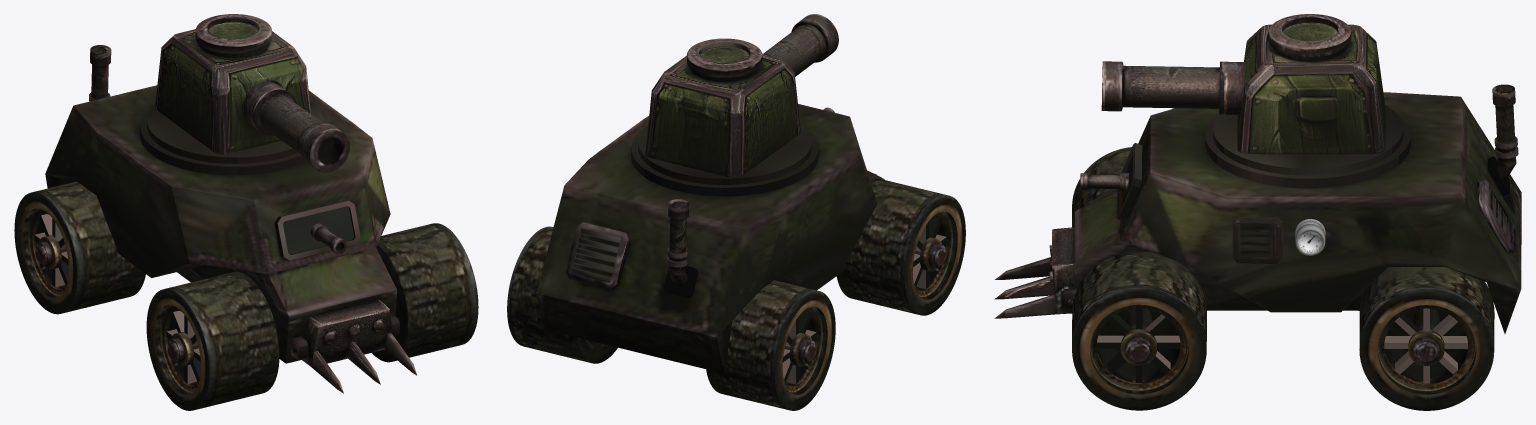
The model's file is Tank Lv 1.fbx.
3 renders of one model, left to right at view 1: azimuth 30°, elevation 25°; view 2: azimuth 150°, elevation 25°; view 3: azimuth 270°, elevation 25°, orthographic. The views are drawn at different scales.
Parts seen in each view (by area): view 1: Tank Lv 1; view 2: Tank Lv 1; view 3: Tank Lv 1.
Part boxes in pixels (bbox=[...]): Tank Lv 1: bbox=[14, 14, 478, 410]; Tank Lv 1: bbox=[507, 14, 965, 410]; Tank Lv 1: bbox=[994, 14, 1521, 410].
Size of the model in its own units: 2.18 by 2.12 by 3.27.
19 materials, 19 textured.
